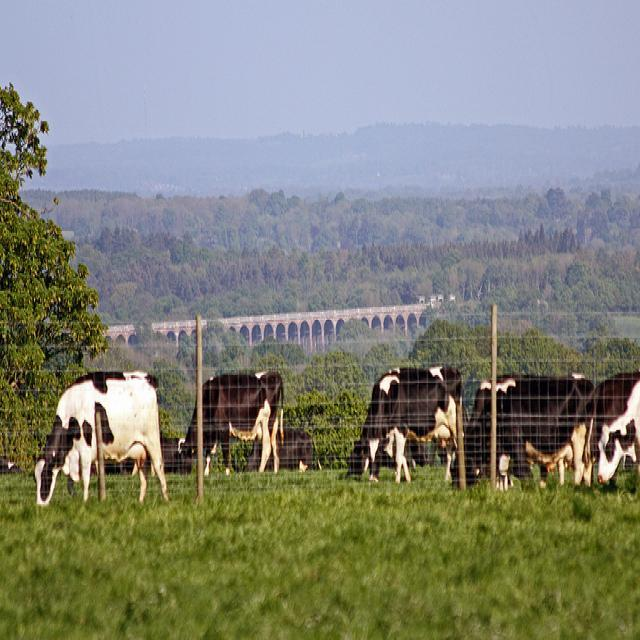cow: (32, 368, 167, 506), (450, 370, 594, 496), (346, 369, 463, 482), (177, 369, 283, 475), (594, 376, 639, 485), (591, 370, 638, 462), (241, 425, 321, 470)
